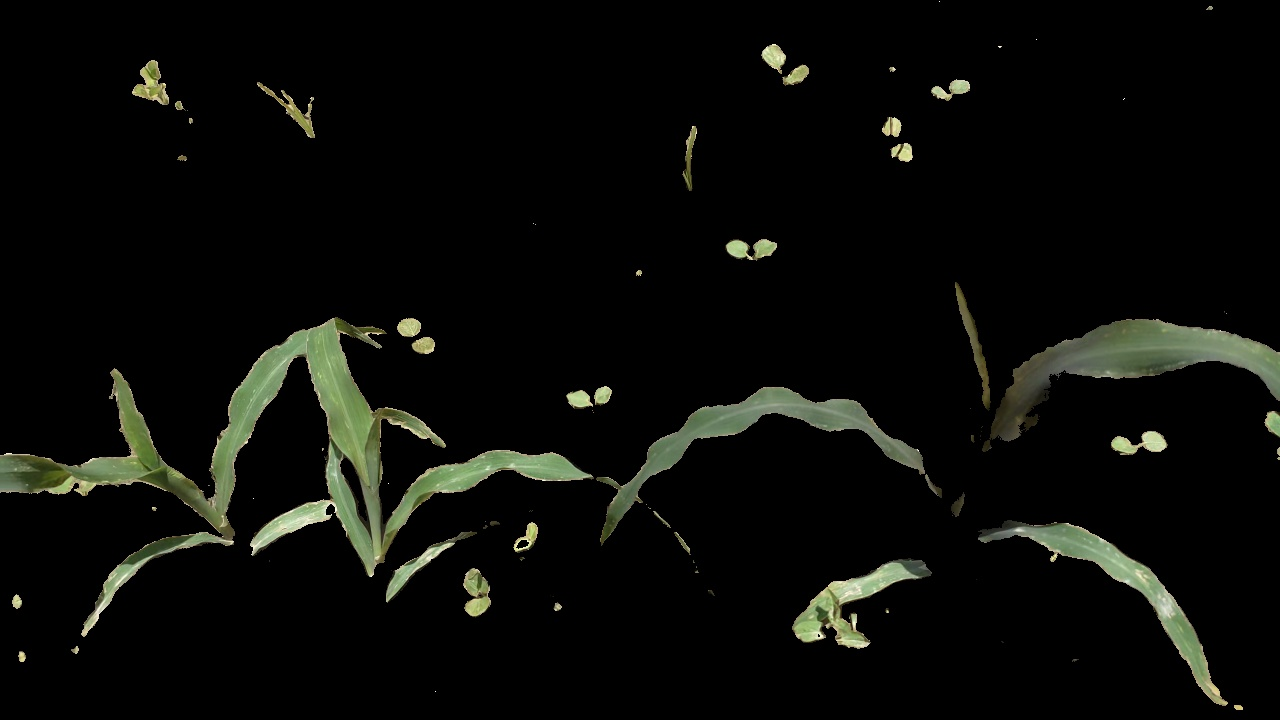crop: (648, 263, 1244, 700), (20, 334, 273, 592), (304, 314, 420, 585)
weed: (243, 78, 330, 143), (128, 59, 195, 126), (708, 229, 795, 278), (751, 45, 822, 90), (876, 114, 924, 163), (1114, 419, 1163, 466), (450, 568, 493, 621), (395, 308, 439, 357), (669, 120, 701, 187), (563, 387, 621, 421), (917, 78, 972, 105), (514, 519, 540, 559)
